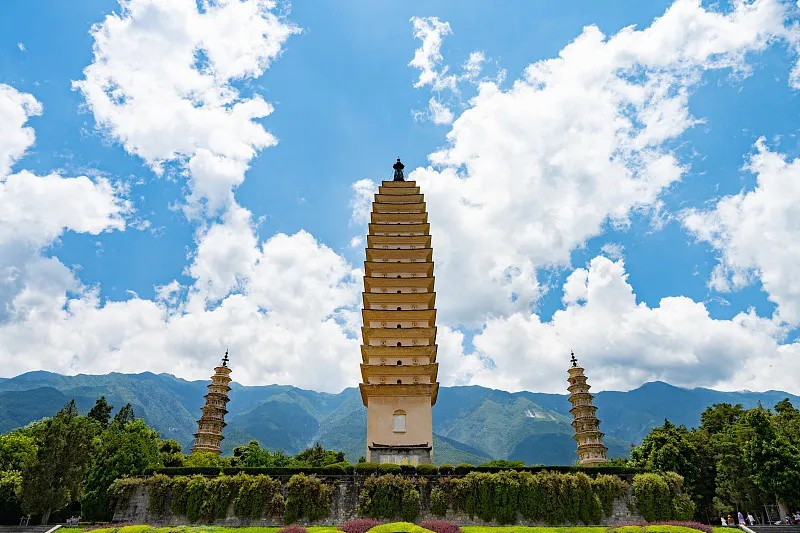ThreePagoda: (359, 155, 439, 464)
